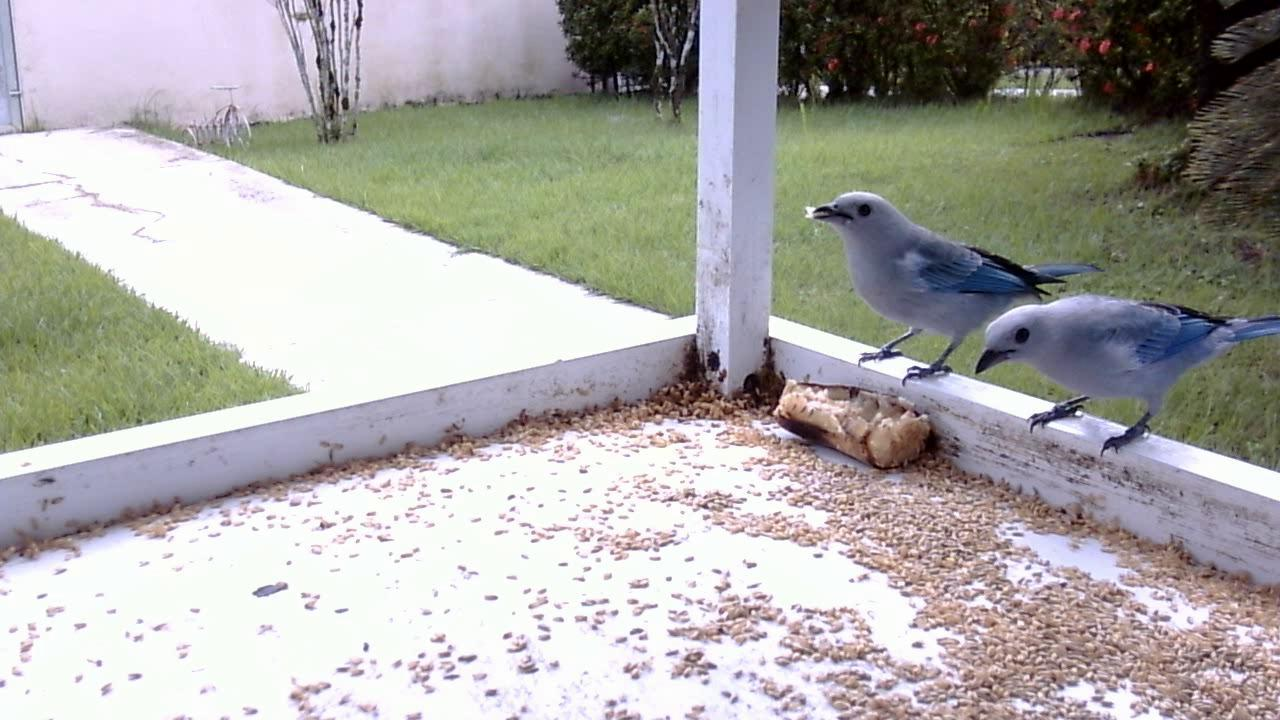sanhaco_da_amazonia: (805, 190, 1098, 398), (964, 285, 1275, 469)
